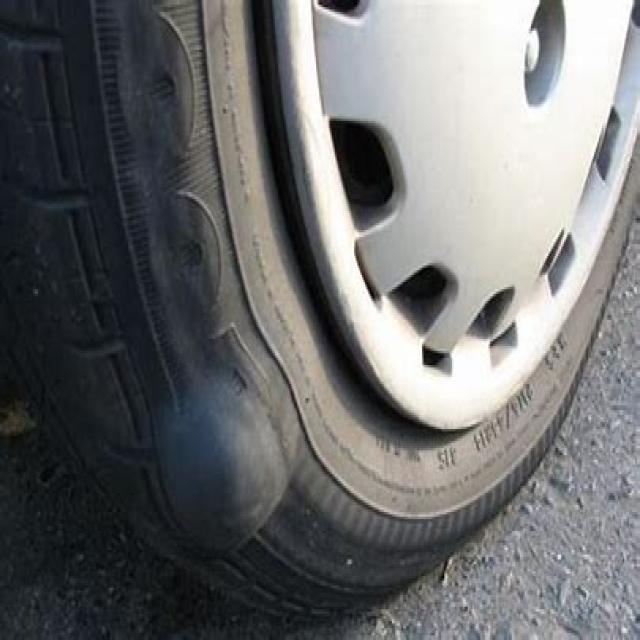Bulge: (138, 352, 307, 574)
